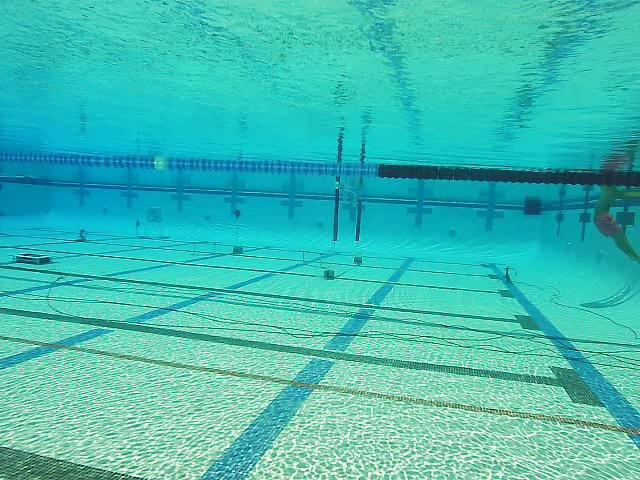dropper: (10, 249, 53, 267)
gate_leg_l: (333, 174, 340, 242)
gate_leg_r: (353, 199, 363, 242)
torpedo: (145, 205, 164, 225)
